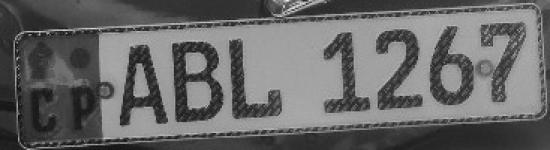1: (317, 25, 374, 117)
2: (372, 25, 428, 116)
6: (430, 20, 476, 115)
7: (475, 13, 530, 107)
A: (115, 38, 170, 131)
B: (170, 38, 224, 126)
C: (24, 83, 62, 136)
L: (223, 32, 290, 122)
P: (66, 82, 100, 134)
